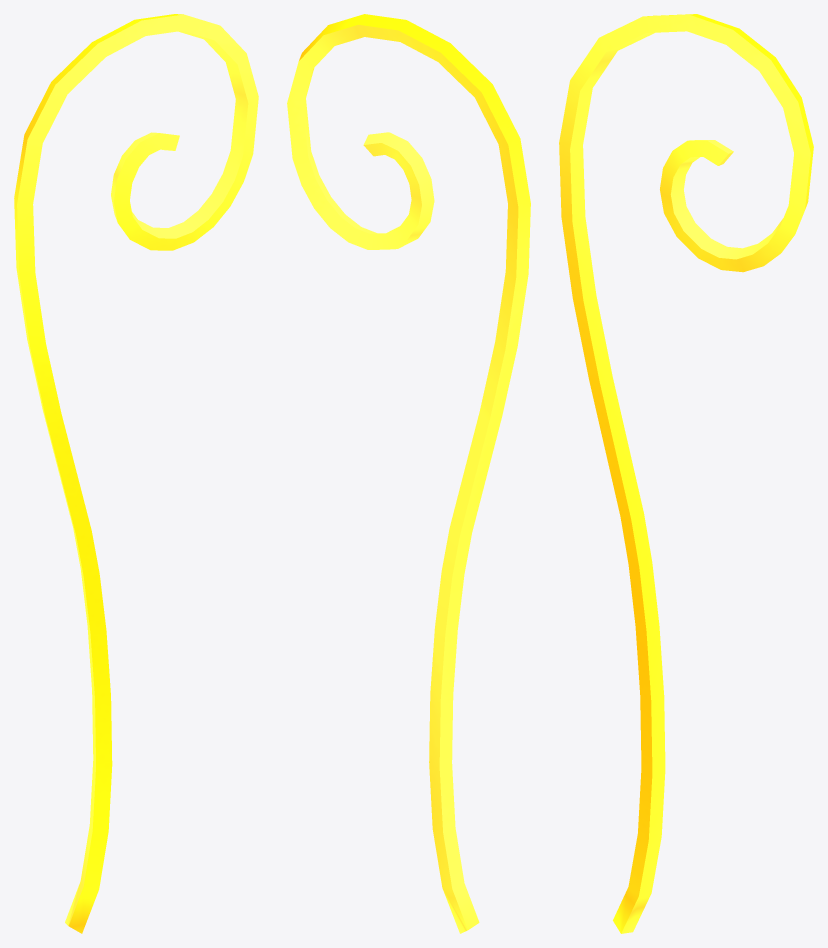
Rendered from lightweed.fbx.
3 views of the same model, side by side, from view 1: azimuth 30°, elevation 25°; view 2: azimuth 150°, elevation 25°; view 3: azimuth 330°, elevation 25° (orthographic). The views are drawn at different scales.
Visible parts, largest first — view 1: BezierCurve.frozen.001; view 2: BezierCurve.frozen.001; view 3: BezierCurve.frozen.001.
Part boxes in pixels (x1,y1,x2,y2): BezierCurve.frozen.001: (14, 14, 258, 933); BezierCurve.frozen.001: (287, 14, 530, 933); BezierCurve.frozen.001: (559, 14, 813, 933).
Bounding box in the file's own units: 72.42 × 257 × 5.43.
Materials: 1 (1 with a texture image).
